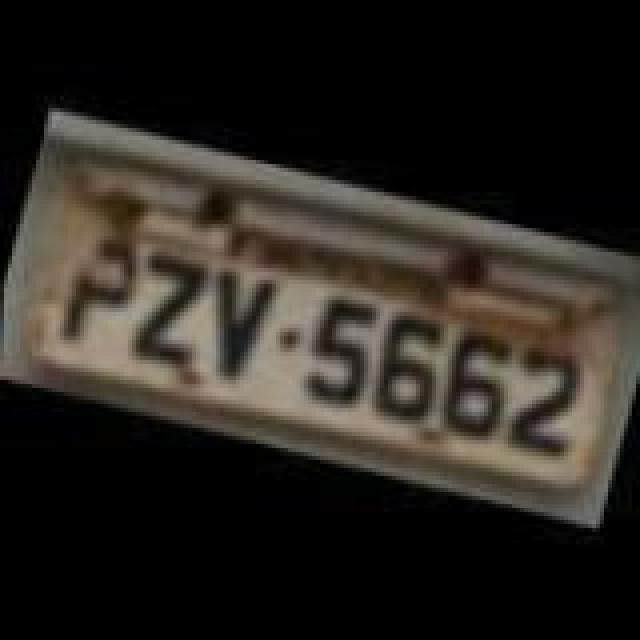2: (496, 338, 596, 466)
5: (290, 284, 386, 412)
6: (428, 322, 528, 446), (358, 304, 454, 432)
P: (50, 226, 142, 354)
V: (184, 258, 280, 386)
Z: (110, 242, 218, 374)
